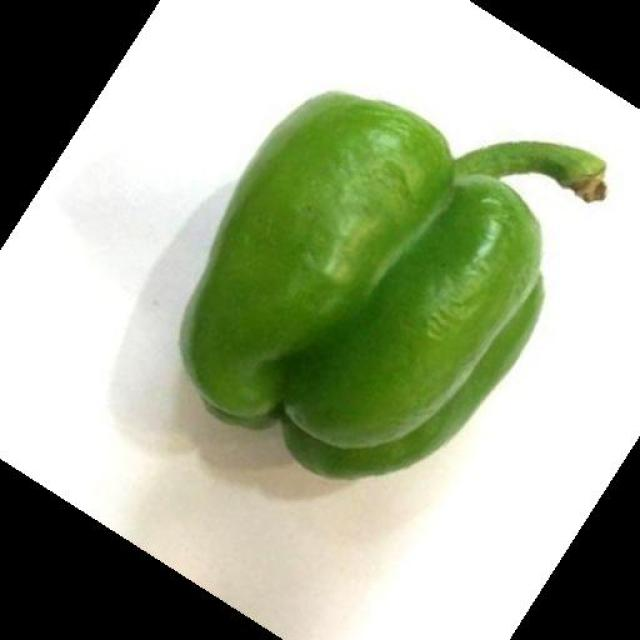Fresh_Capsicum: (228, 39, 587, 479)
